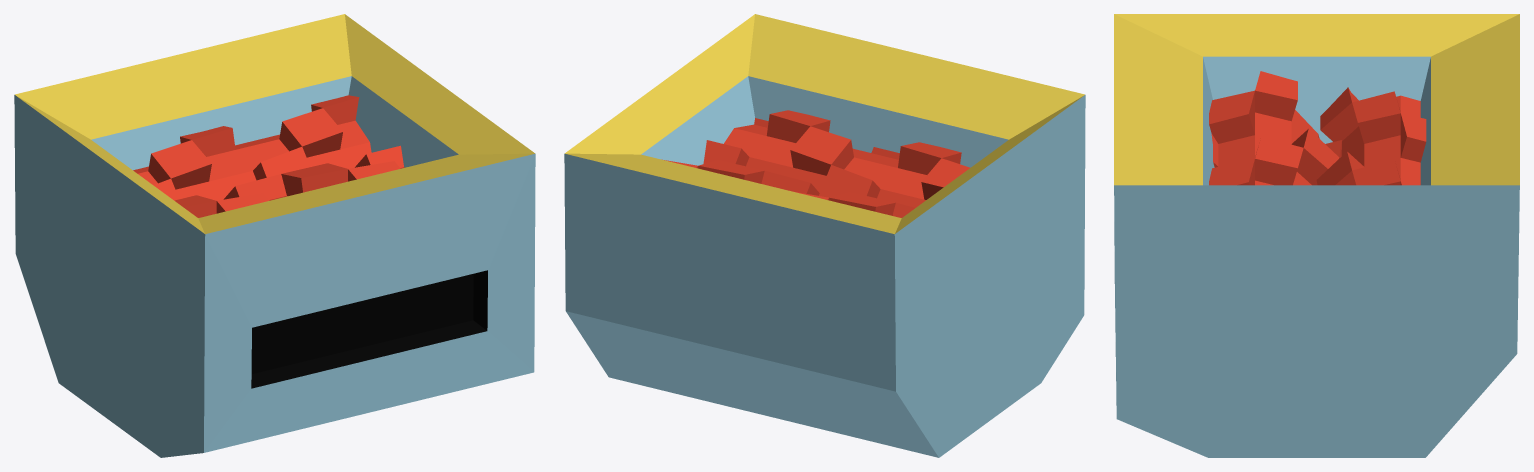
The model's file is Crusher.fbx.
The picture shows the model from 3 angles, left to right: view 1: azimuth 30°, elevation 25°; view 2: azimuth 150°, elevation 25°; view 3: azimuth 270°, elevation 25°; orthographic projection. The views are drawn at different scales.
Parts seen in each view (by area): view 1: Crusher, Cylinder, Cylinder.001; view 2: Crusher, Cylinder.001, Cylinder; view 3: Crusher, Cylinder.001, Cylinder.
Part boxes in pixels (<box>): Crusher: <box>14,14,535,457</box>; Cylinder: <box>133,95,371,200</box>; Cylinder.001: <box>174,145,405,217</box>; Crusher: <box>564,14,1085,457</box>; Cylinder.001: <box>703,110,970,207</box>; Cylinder: <box>662,159,914,217</box>; Crusher: <box>1114,14,1519,457</box>; Cylinder.001: <box>1209,71,1341,185</box>; Cylinder: <box>1315,87,1426,185</box>.
Size of the model in its own units: 1 by 0.7409 by 1.
